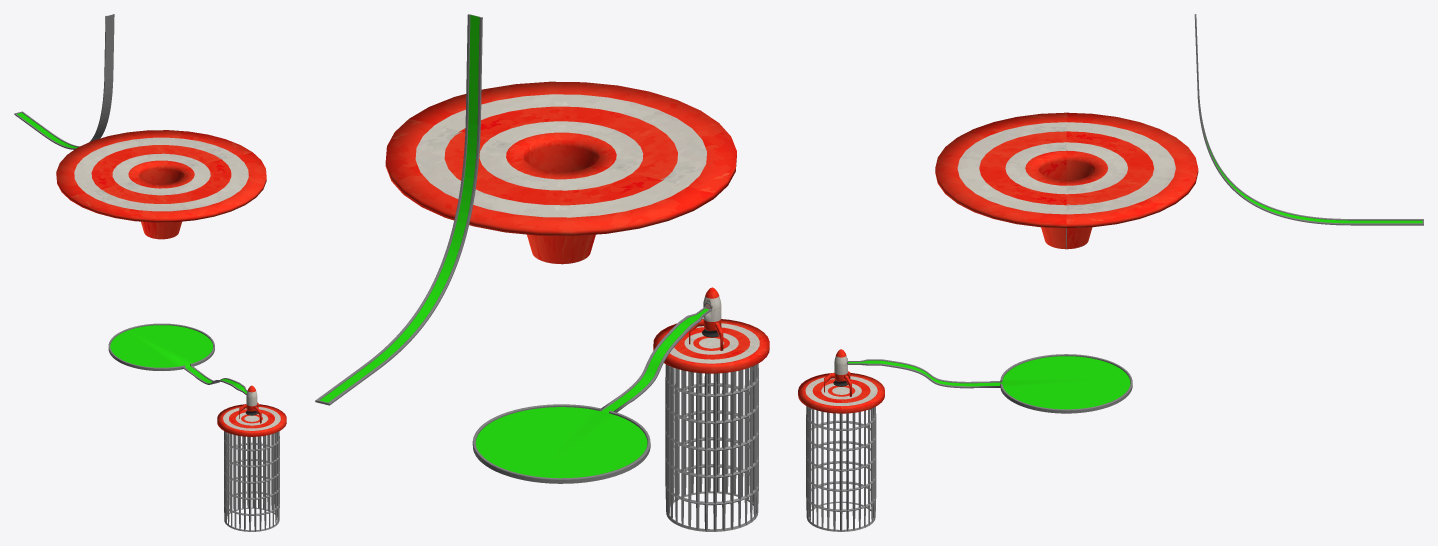
3 views of the same model, side by side, from view 1: azimuth 30°, elevation 25°; view 2: azimuth 150°, elevation 25°; view 3: azimuth 270°, elevation 25° (orthographic). The views are drawn at different scales.
Visible parts, largest first — view 1: Target, Cylinder, course_part2, LaunchPad, course_part1Walls, course_part2Walls, rocket; view 2: Target, Cylinder, course_part2, LaunchPad, course_part1, course_part1Walls, course_part2Walls, rocket; view 3: Target, Cylinder, course_part2, LaunchPad, course_part2Walls, course_part1Walls, course_part1.
Part boxes in pixels (x1=…): Target: x1=56, y1=130, x2=266, y2=239; Cylinder: x1=224, y1=431, x2=279, y2=531; course_part2: x1=110, y1=325, x2=246, y2=393; LaunchPad: x1=217, y1=404, x2=286, y2=436; course_part1Walls: x1=14, y1=14, x2=114, y2=149; course_part2Walls: x1=108, y1=323, x2=247, y2=394; rocket: x1=239, y1=385, x2=261, y2=423; Target: x1=385, y1=81, x2=736, y2=264; Cylinder: x1=665, y1=363, x2=758, y2=531; course_part2: x1=475, y1=308, x2=708, y2=478; LaunchPad: x1=653, y1=319, x2=769, y2=373; course_part1: x1=320, y1=15, x2=479, y2=402; course_part1Walls: x1=315, y1=14, x2=482, y2=405; course_part2Walls: x1=472, y1=307, x2=711, y2=483; rocket: x1=689, y1=287, x2=723, y2=350; Target: x1=935, y1=112, x2=1198, y2=249; Cylinder: x1=806, y1=406, x2=876, y2=531; course_part2: x1=848, y1=356, x2=1130, y2=409; LaunchPad: x1=798, y1=373, x2=884, y2=413; course_part2Walls: x1=848, y1=354, x2=1132, y2=413; course_part1Walls: x1=1194, y1=14, x2=1423, y2=225; course_part1: x1=1205, y1=137, x2=1422, y2=223.
Size of what is drawn, in the model's own units: 4255 by 8939 by 10125.
